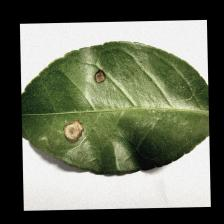canker: (34, 53, 127, 165)
